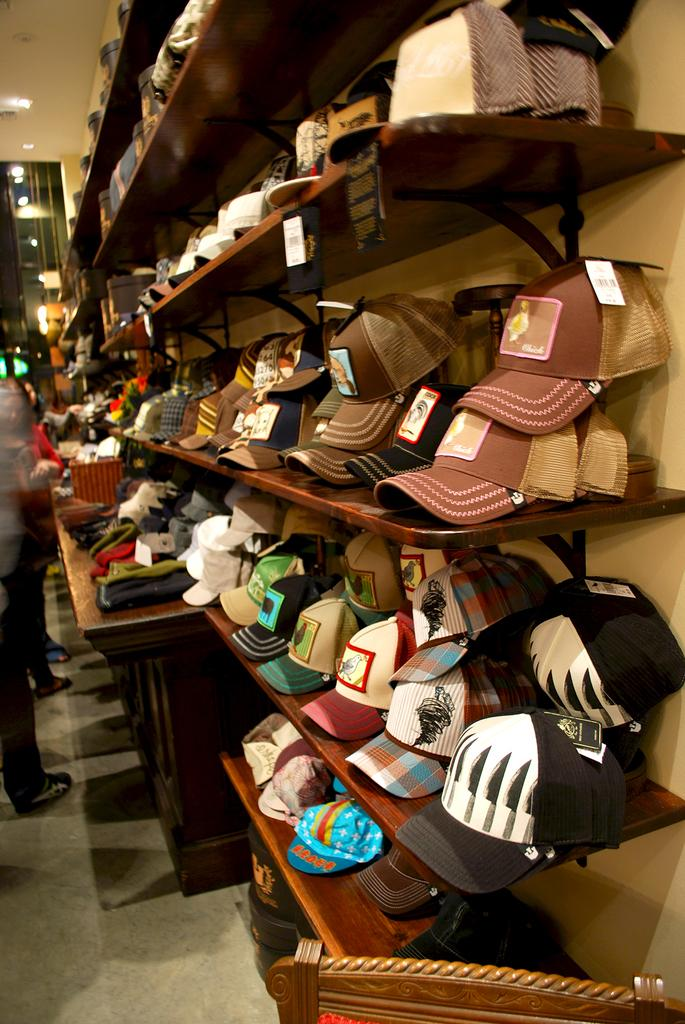Hat: (58, 0, 684, 981)
